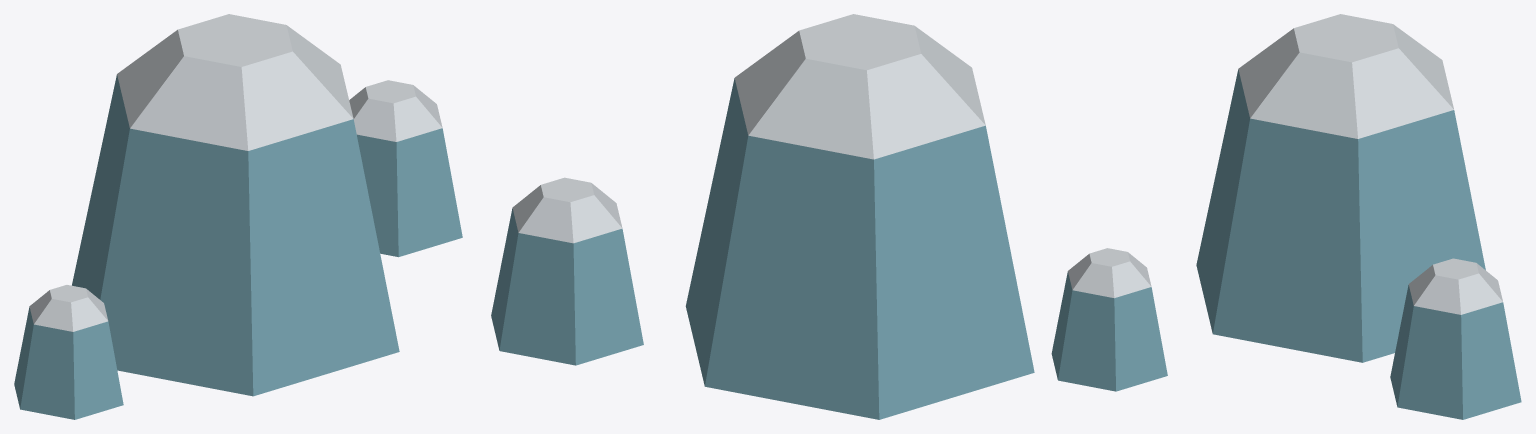
File: Frosty_IcebergCluster_Simple.glb
3 renders of one model, left to right at view 1: azimuth 30°, elevation 25°; view 2: azimuth 150°, elevation 25°; view 3: azimuth 270°, elevation 25°, orthographic. The views are drawn at different scales.
Parts seen in each view (by area): view 1: Frosty_IcebergCluster_Simple; view 2: Frosty_IcebergCluster_Simple; view 3: Frosty_IcebergCluster_Simple.
Part boxes in pixels (<box>): Frosty_IcebergCluster_Simple: <box>14,14,462,419</box>; Frosty_IcebergCluster_Simple: <box>491,14,1167,419</box>; Frosty_IcebergCluster_Simple: <box>1196,14,1521,419</box>.
Size of the model in its own units: 3.61 by 1.8 by 2.08.
